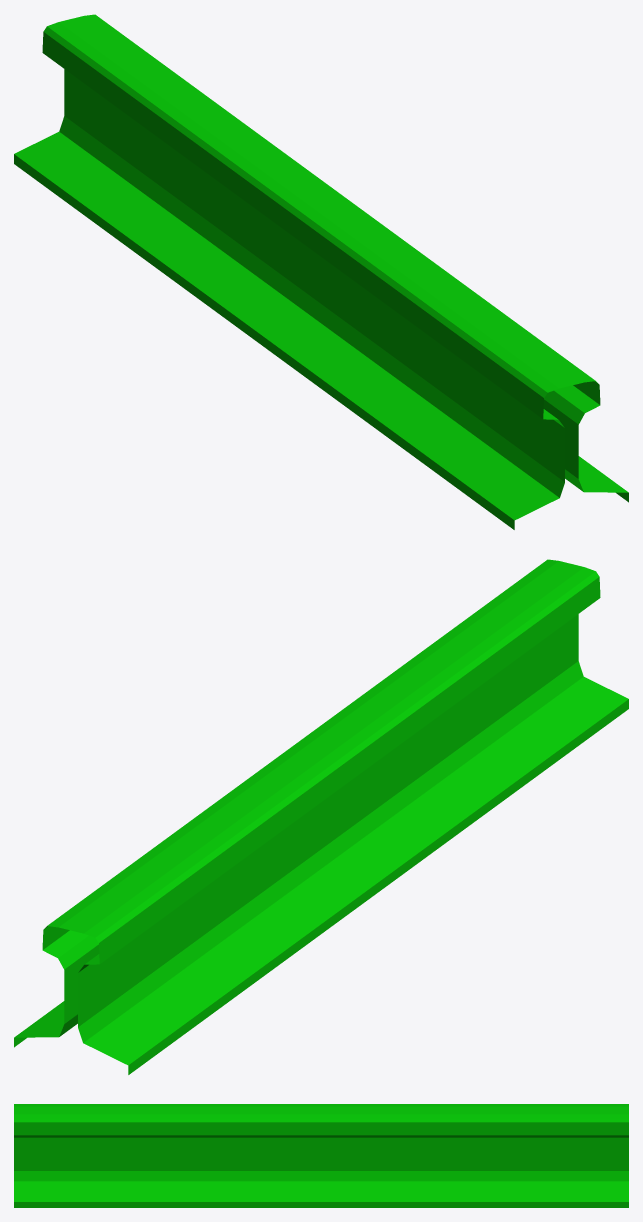
File: railProfile.obj
3 views of the same model, one above another, from view 1: azimuth 30°, elevation 25°; view 2: azimuth 150°, elevation 25°; view 3: azimuth 270°, elevation 25° (orthographic). The views are drawn at different scales.
Parts seen in each view (by area): view 1: mesh_scaled_withMat; view 2: mesh_scaled_withMat; view 3: mesh_scaled_withMat.
Part boxes in pixels (<box>): mesh_scaled_withMat: <box>14,14,628,529</box>; mesh_scaled_withMat: <box>14,559,628,1074</box>; mesh_scaled_withMat: <box>14,1104,628,1207</box>.
Size of the model in its own units: 0.1317 by 0.1444 by 1.
